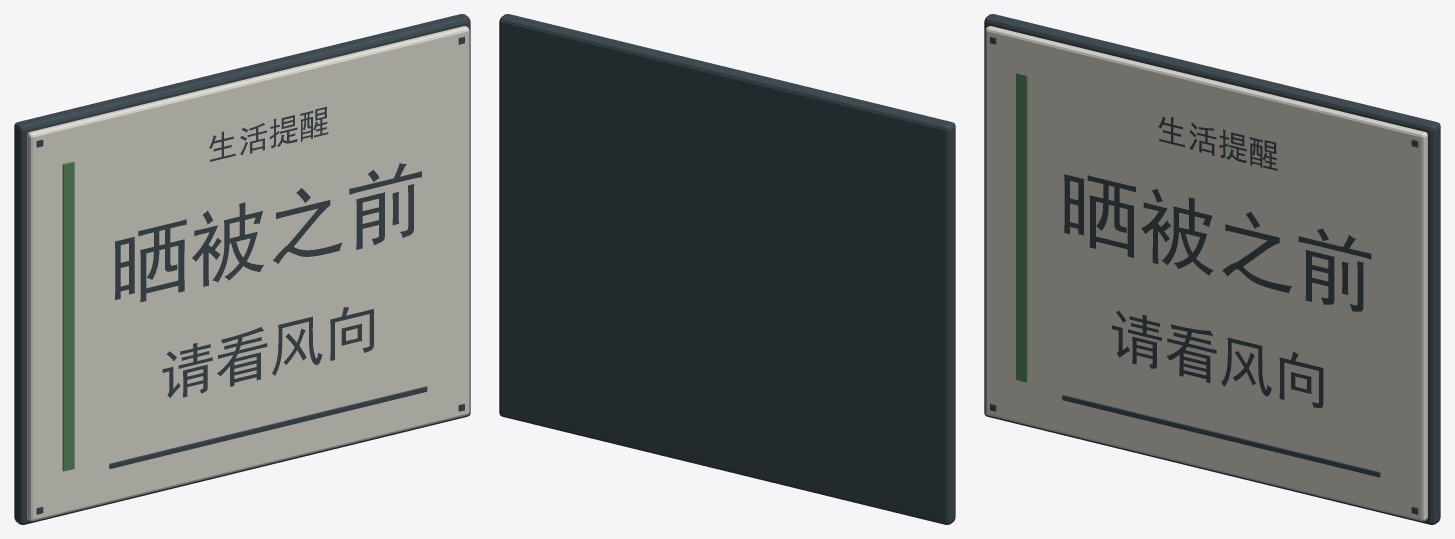
Rendered from CityNoticeWind.fbx.
3 renders of one model, left to right at view 1: azimuth 30°, elevation 25°; view 2: azimuth 150°, elevation 25°; view 3: azimuth 330°, elevation 25°, orthographic.
Parts seen in each view (by area): view 1: CityNoticeWind_SC_Concrete, CityNoticeWind_SC_Metal, CityNoticeWind_SC_Foliage; view 2: CityNoticeWind_SC_Metal; view 3: CityNoticeWind_SC_Concrete, CityNoticeWind_SC_Metal, CityNoticeWind_SC_Foliage.
Part boxes in pixels (box(x1,y1,x2,y2)): CityNoticeWind_SC_Concrete: box(27, 26, 469, 521); CityNoticeWind_SC_Metal: box(14, 14, 470, 524); CityNoticeWind_SC_Foliage: box(62, 161, 74, 471); CityNoticeWind_SC_Metal: box(499, 14, 955, 524); CityNoticeWind_SC_Concrete: box(985, 26, 1427, 521); CityNoticeWind_SC_Metal: box(984, 14, 1440, 524); CityNoticeWind_SC_Foliage: box(1016, 72, 1027, 382).
Bounding box in the file's own units: 2.6 × 2.2 × 0.145.
